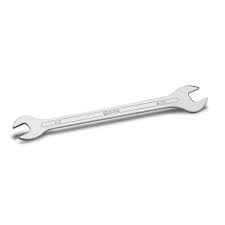wrench: (12, 84, 216, 144)
